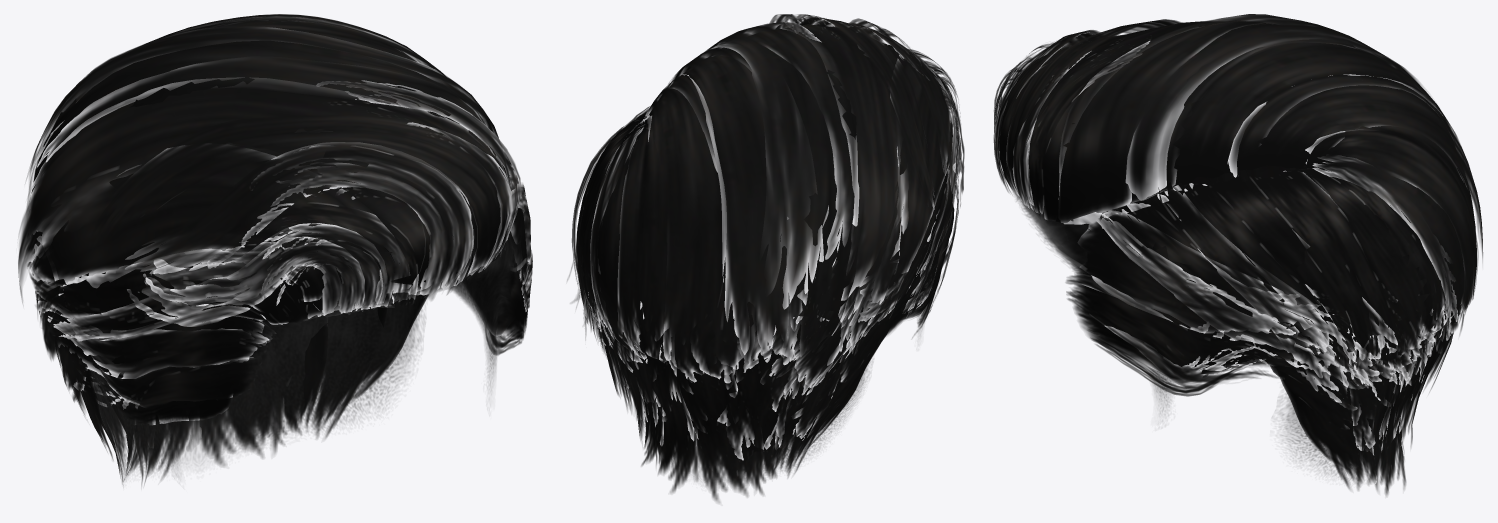
Rendered from Medium-LengthSidePart.glb.
3 renders of one model, left to right at view 1: azimuth 30°, elevation 25°; view 2: azimuth 150°, elevation 25°; view 3: azimuth 270°, elevation 25°, orthographic. The views are drawn at different scales.
Parts seen in each view (by area): view 1: MEDIUM-SWEPT SIDE PART.006, Scalp, MEDIUM-SWEPT SIDE PART.013, MEDIUM-SWEPT SIDE PART.009, MEDIUM-SWEPT SIDE PART.010, MEDIUM-SWEPT SIDE PART.011; view 2: MEDIUM-SWEPT SIDE PART.006, MEDIUM-SWEPT SIDE PART.013, Scalp, MEDIUM-SWEPT SIDE PART.010, MEDIUM-SWEPT SIDE PART.011; view 3: MEDIUM-SWEPT SIDE PART.006, MEDIUM-SWEPT SIDE PART.010, MEDIUM-SWEPT SIDE PART.013, Scalp, MEDIUM-SWEPT SIDE PART.009, MEDIUM-SWEPT SIDE PART.007, MEDIUM-SWEPT SIDE PART.008.
Part boxes in pixels (x1,y1,x2,y2): MEDIUM-SWEPT SIDE PART.006: [18, 14, 532, 485]; Scalp: [90, 231, 522, 479]; MEDIUM-SWEPT SIDE PART.013: [93, 115, 511, 276]; MEDIUM-SWEPT SIDE PART.009: [251, 146, 473, 300]; MEDIUM-SWEPT SIDE PART.010: [321, 81, 520, 266]; MEDIUM-SWEPT SIDE PART.011: [47, 296, 283, 339]; MEDIUM-SWEPT SIDE PART.006: [567, 22, 964, 502]; MEDIUM-SWEPT SIDE PART.013: [798, 16, 932, 203]; Scalp: [643, 312, 922, 477]; MEDIUM-SWEPT SIDE PART.010: [770, 14, 839, 41]; MEDIUM-SWEPT SIDE PART.011: [909, 166, 950, 311]; MEDIUM-SWEPT SIDE PART.006: [994, 14, 1482, 496]; MEDIUM-SWEPT SIDE PART.010: [1013, 36, 1150, 212]; MEDIUM-SWEPT SIDE PART.013: [1006, 19, 1181, 208]; Scalp: [1013, 192, 1362, 480]; MEDIUM-SWEPT SIDE PART.009: [993, 33, 1086, 193]; MEDIUM-SWEPT SIDE PART.007: [1168, 165, 1295, 191]; MEDIUM-SWEPT SIDE PART.008: [1172, 165, 1296, 191].
Size of the model in its own units: 0.2211 by 0.2585 by 0.2586.
Materials: 2 (2 with a texture image).
